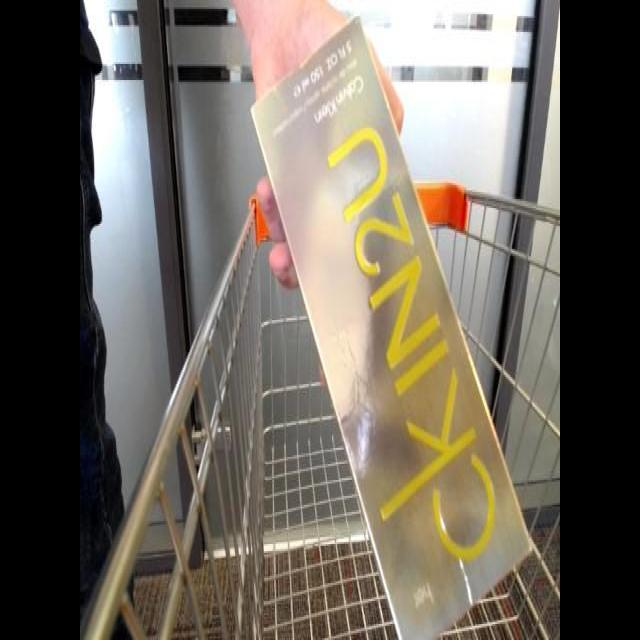Calvin Klein: (243, 23, 538, 622)
